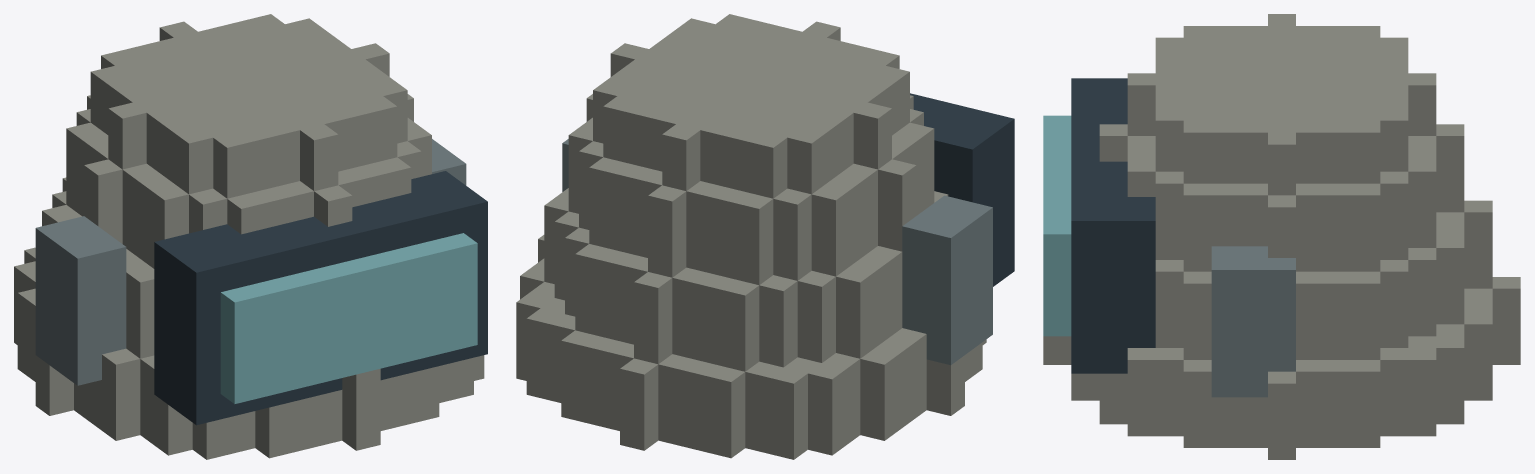
Rendered from manufacturing-09.glb.
The picture shows the model from 3 angles, left to right: view 1: azimuth 30°, elevation 25°; view 2: azimuth 150°, elevation 25°; view 3: azimuth 270°, elevation 25°; orthographic projection.
Parts seen in each view (by area): view 1: Safety helmet; view 2: Safety helmet; view 3: Safety helmet.
Part boxes in pixels (x1=…): Safety helmet: x1=14, y1=14, x2=487, y2=459; Safety helmet: x1=516, y1=14, x2=1014, y2=459; Safety helmet: x1=1043, y1=14, x2=1520, y2=459.
Size of the model in its own units: 1.36 by 0.88 by 1.36.
